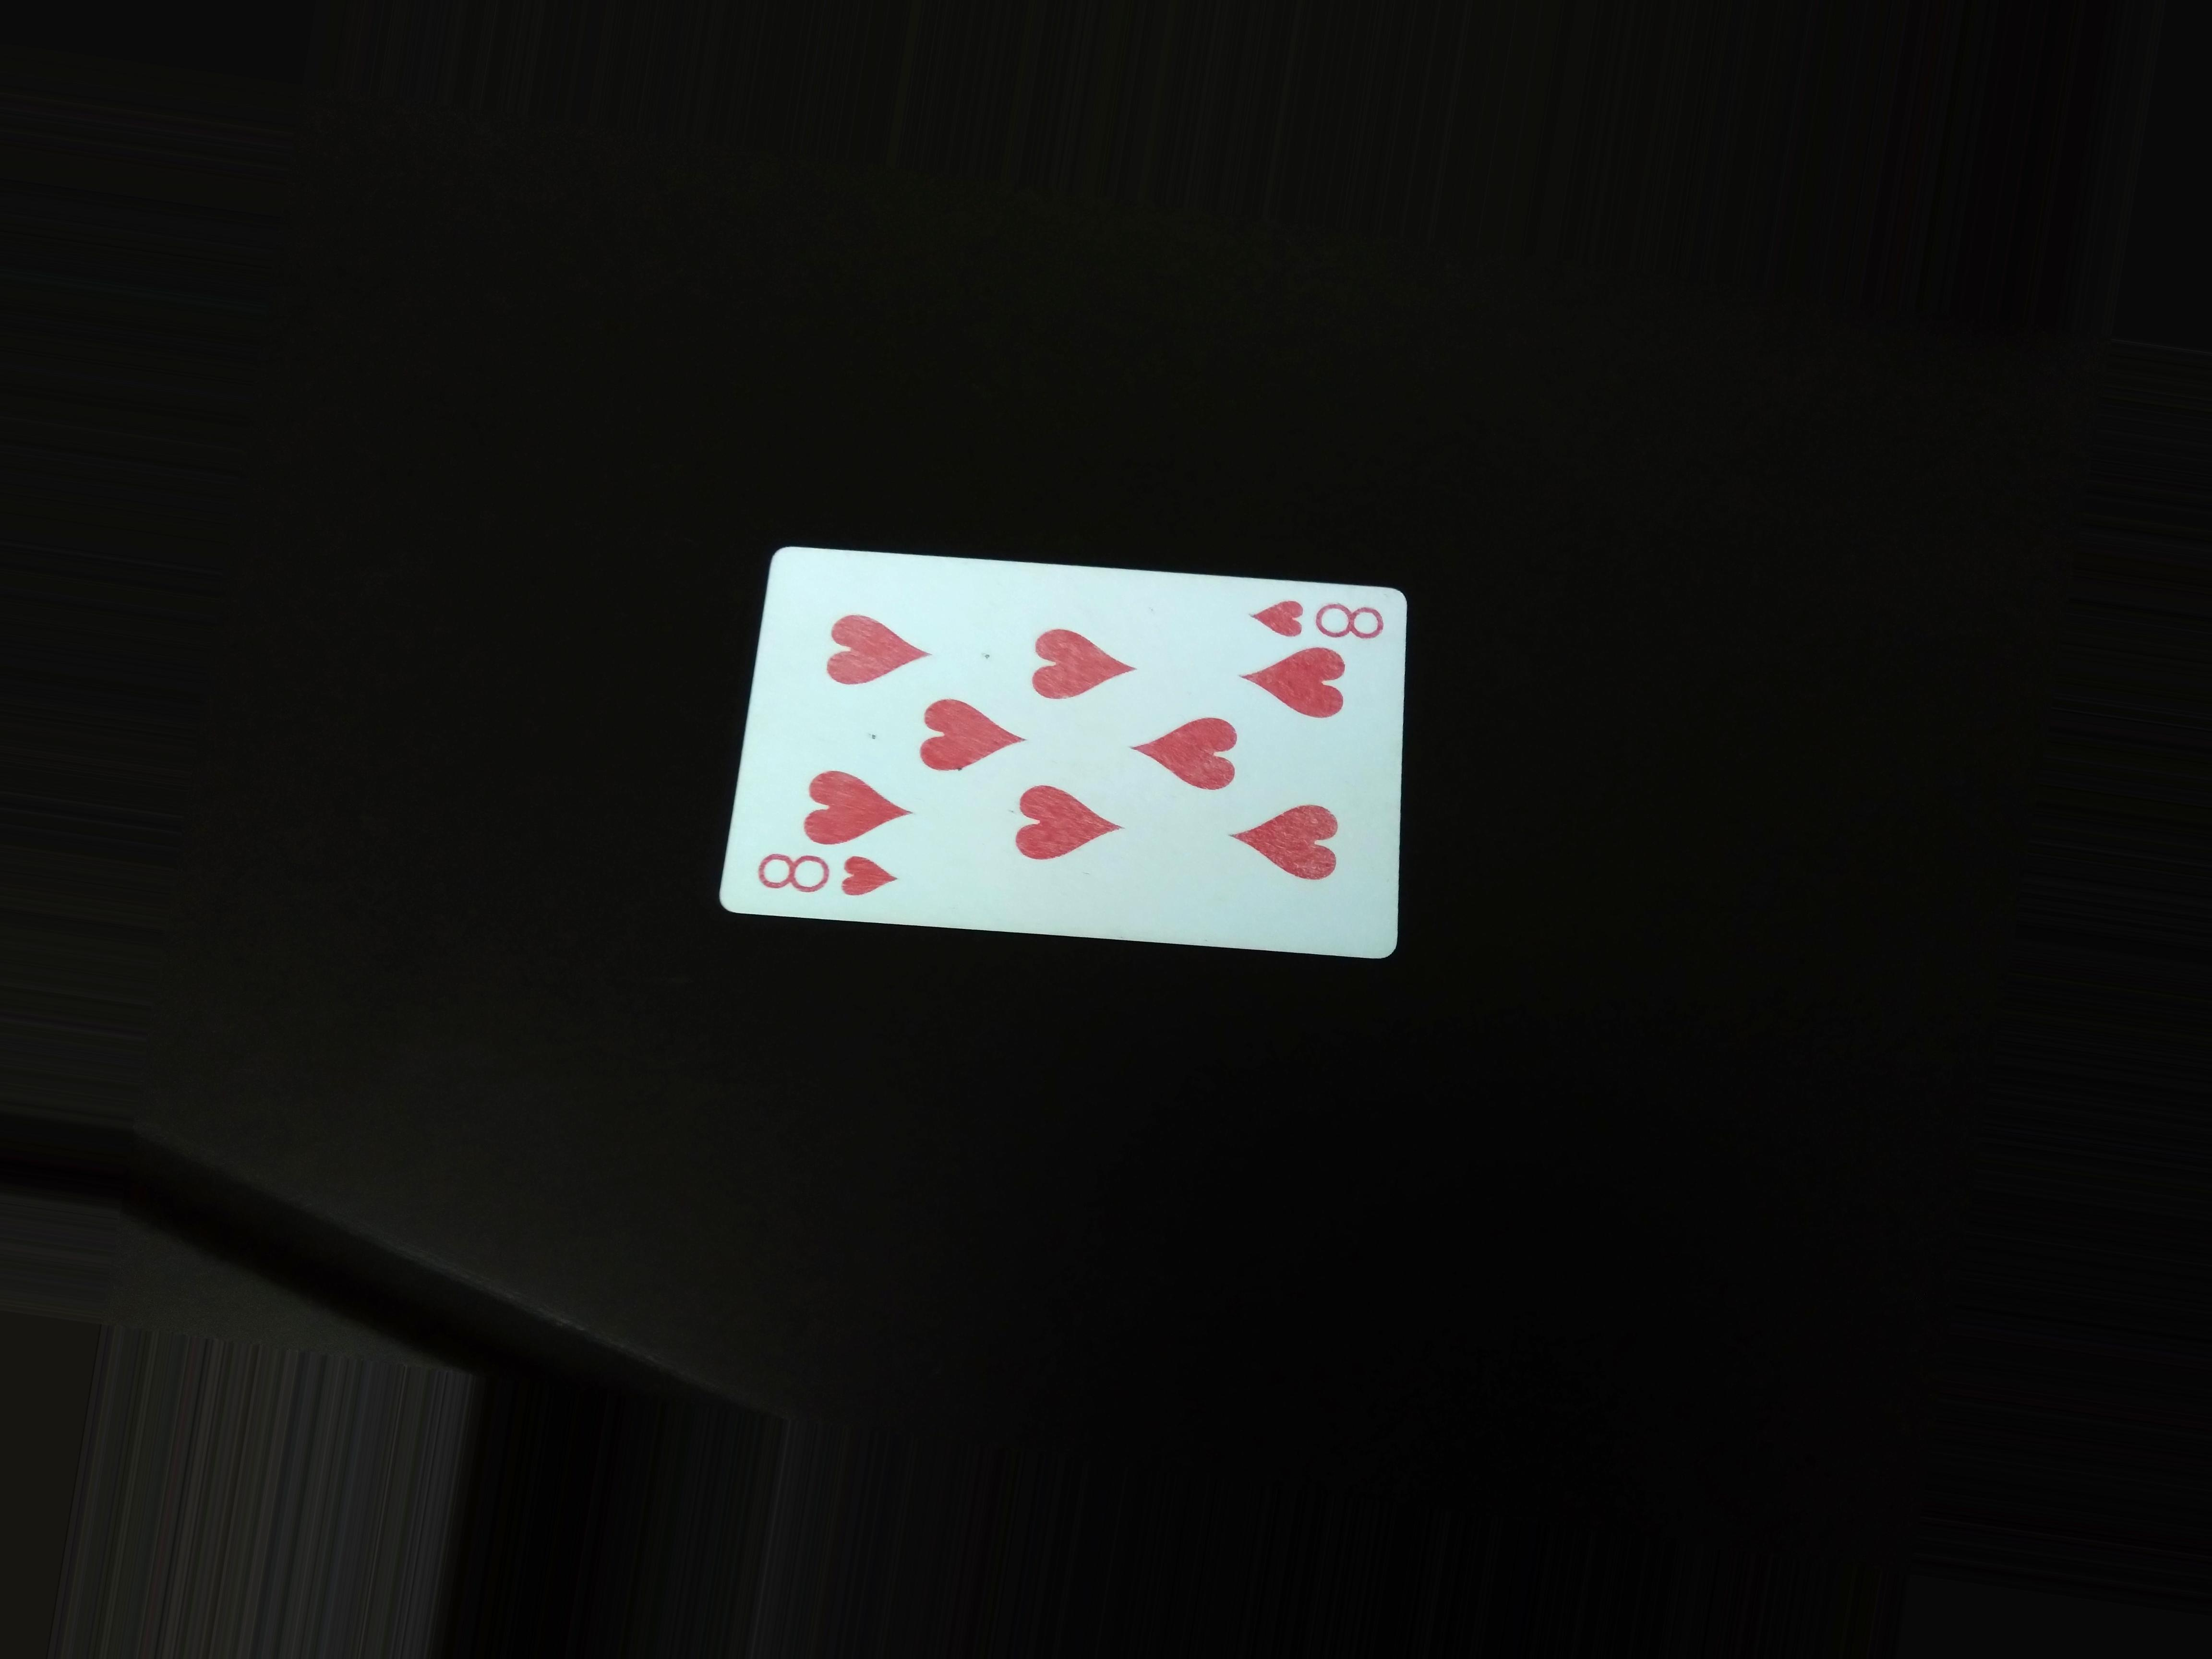8H: (1256, 594, 1386, 648)
